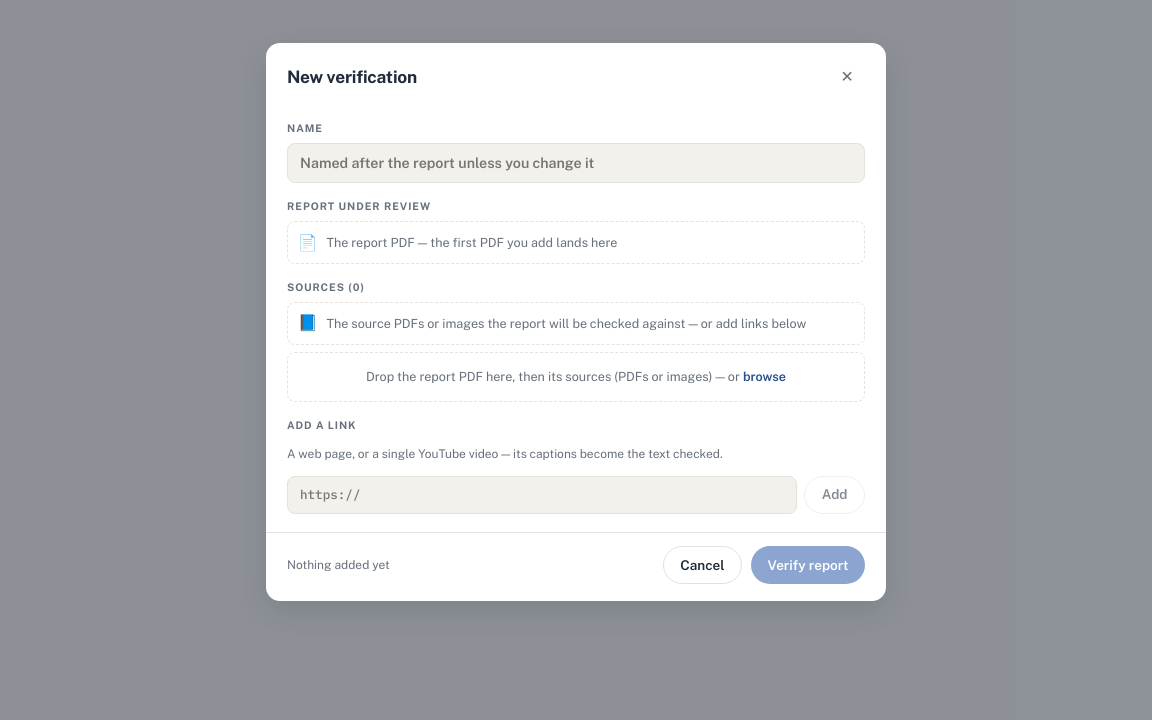
Test: UploadDialog › accepts a single YouTube video link, stored under its one canonical link
This screenshot has width=1152, height=720.
Type "https://youtu.be/abc123def45" into the field labelled "Add a link" at (542, 495), box [287,476,797,514]
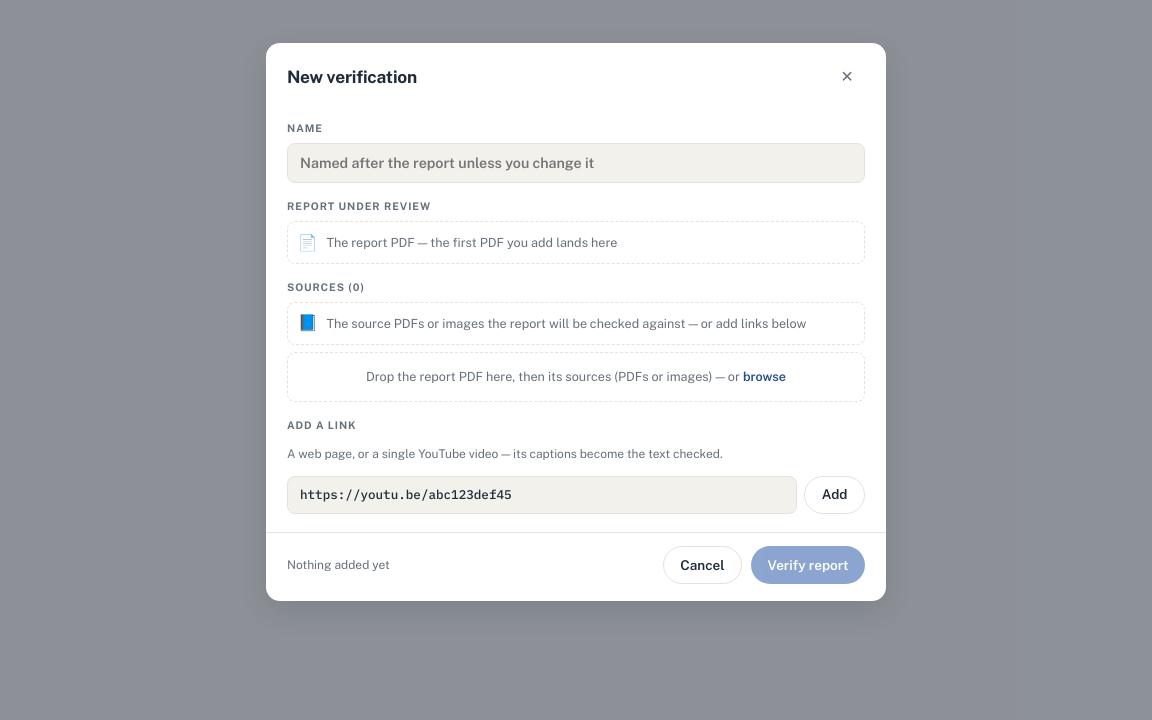
Click the button "Add" at (835, 495), box [804,476,865,514]
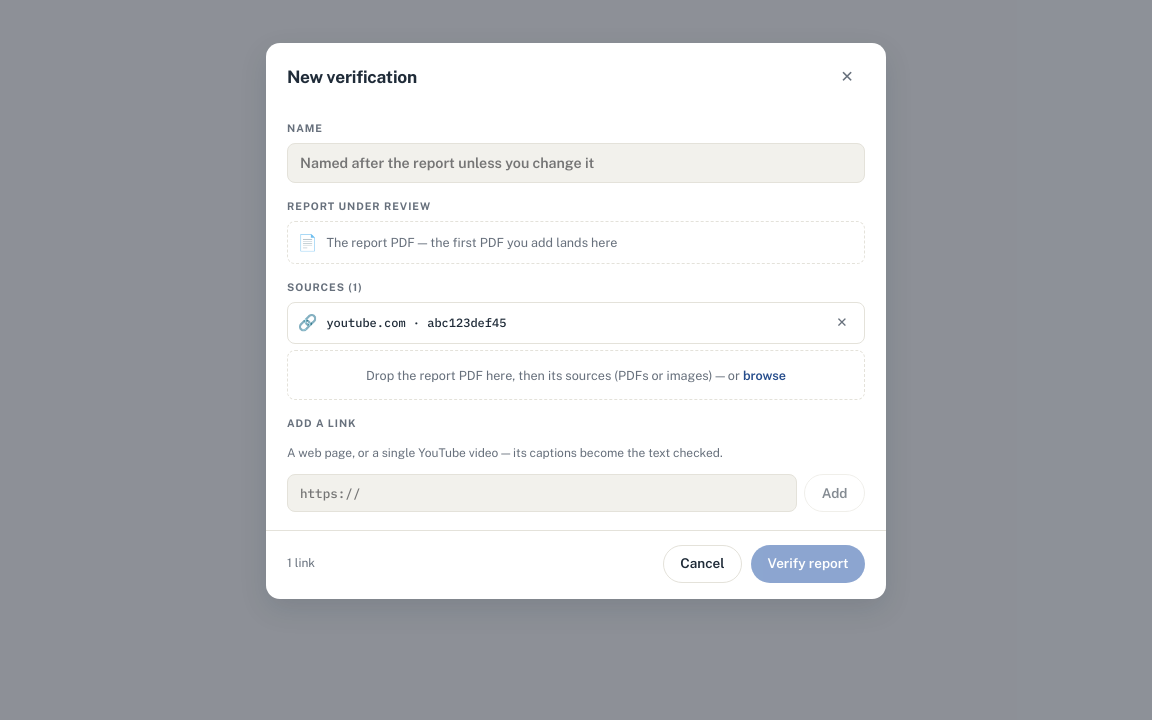
Now the field labelled "Add a link" is empty, box [287,474,797,512]
Now the text "Sources (1)" is shown, box [287,281,363,293]
